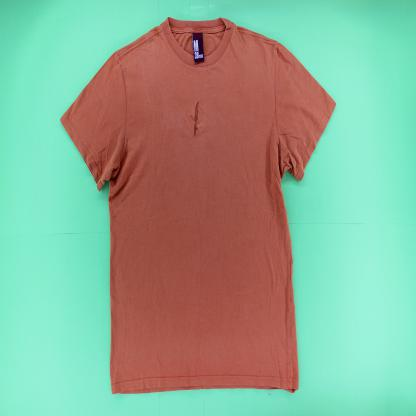hole: (193, 101, 199, 139)
